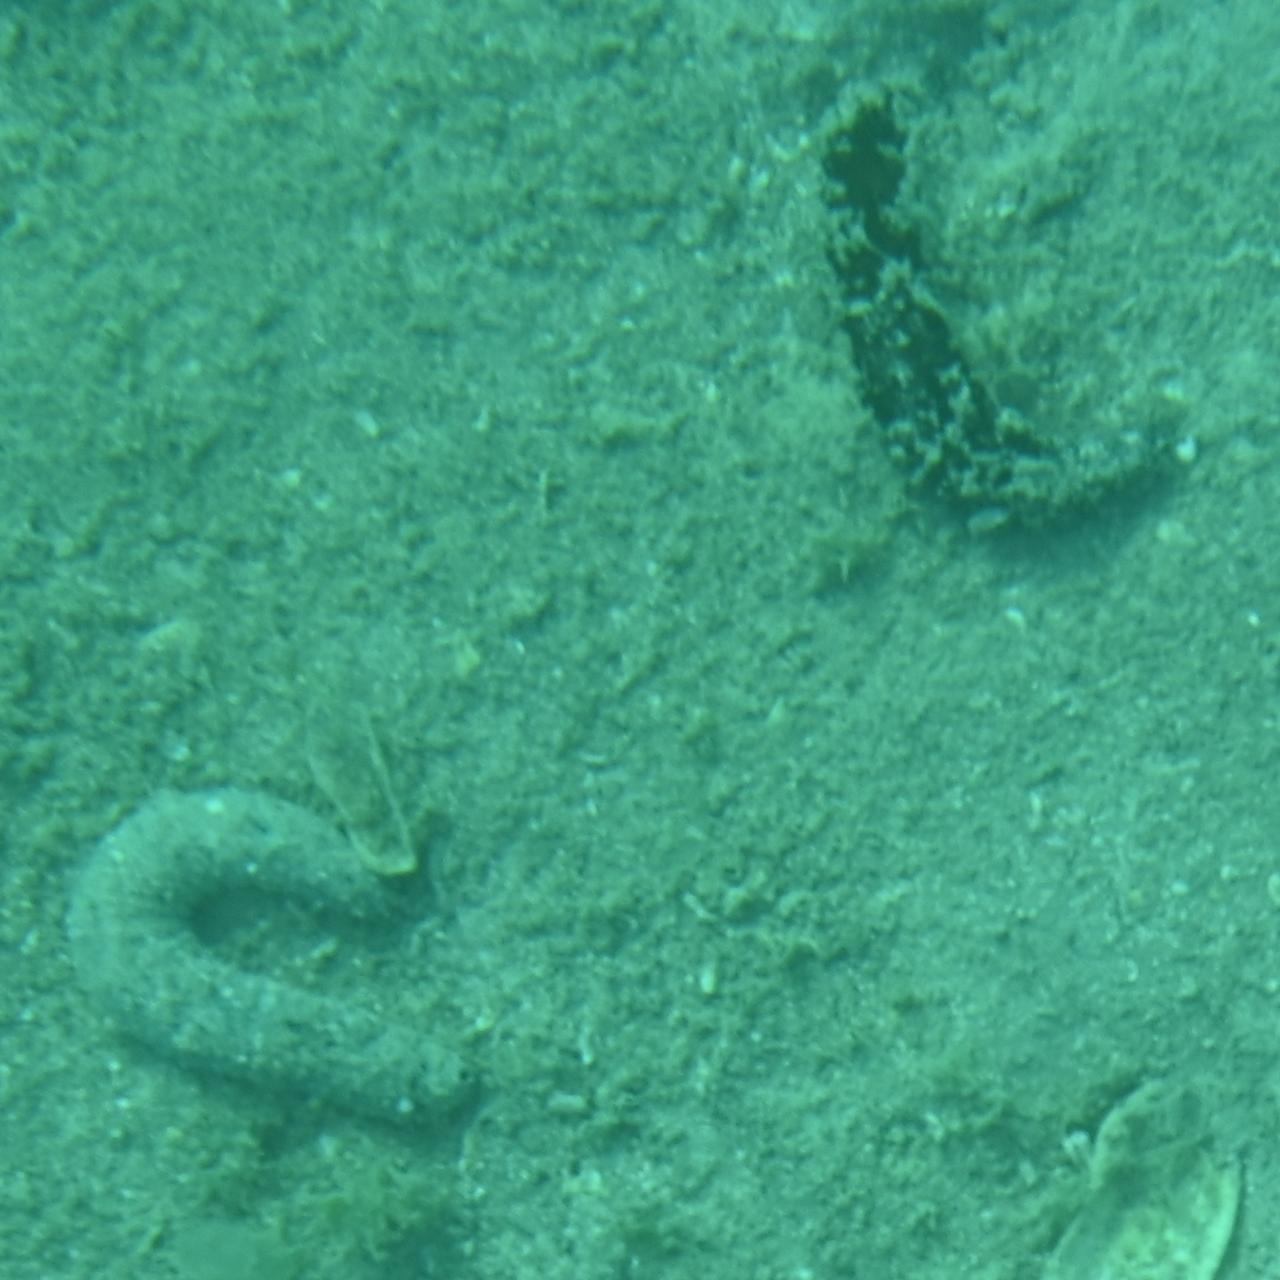Holothuria tubulosa: (810, 60, 1212, 578), (42, 787, 496, 1135)
